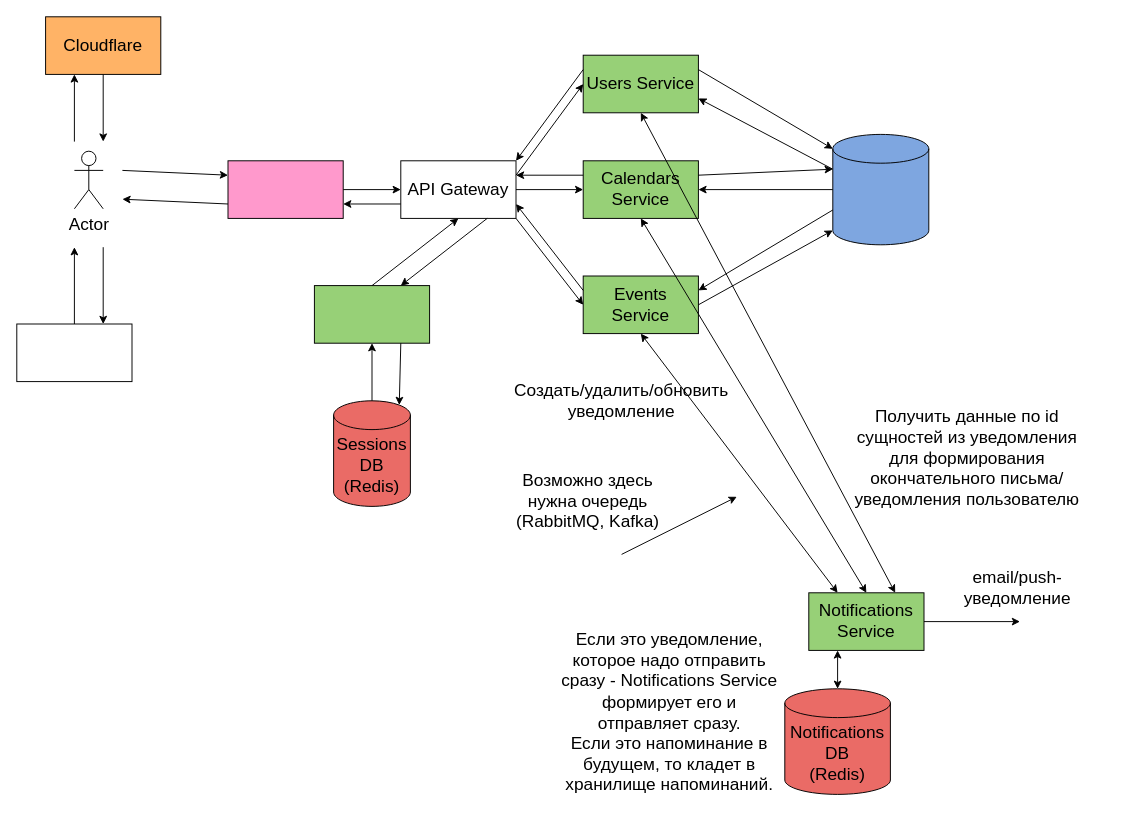
This 1128x830 diagram has some shape labels left out. Here are the shapes that lost their labels. From the top down, the centre of each, then its label:
At point (285, 189): "Envoy".
At point (880, 189): "Main DB (Postgres)".
At point (371, 314): "Auth Service".
At point (74, 352): "DNS".
